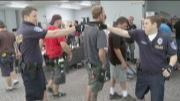gun: (90, 20, 103, 29)
